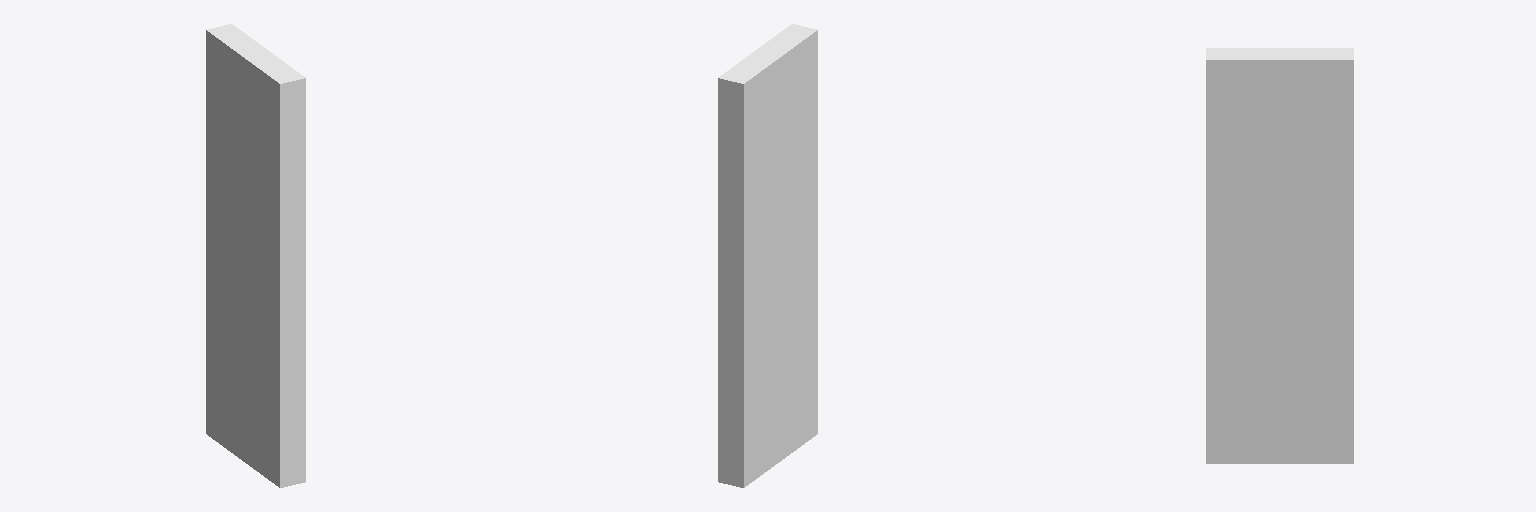
File: airport_glass_01.obj
3 views of the same model, side by side, from view 1: azimuth 30°, elevation 25°; view 2: azimuth 150°, elevation 25°; view 3: azimuth 270°, elevation 25° (orthographic).
Parts seen in each view (by area): view 1: object 1; view 2: object 1; view 3: object 1.
Boxes of the visible parts, x1=… form: object 1: x1=206, y1=24, x2=305, y2=487; object 1: x1=718, y1=24, x2=817, y2=487; object 1: x1=1206, y1=48, x2=1353, y2=463.
Size of the model in its own units: 0.2 by 3 by 1.